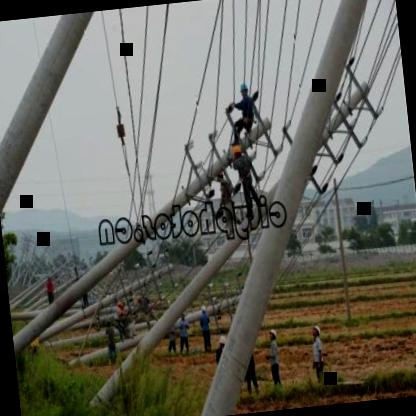helmet: (309, 321, 321, 341), (268, 326, 278, 347), (232, 144, 243, 162), (240, 80, 249, 100), (218, 332, 226, 352), (199, 303, 207, 318)
